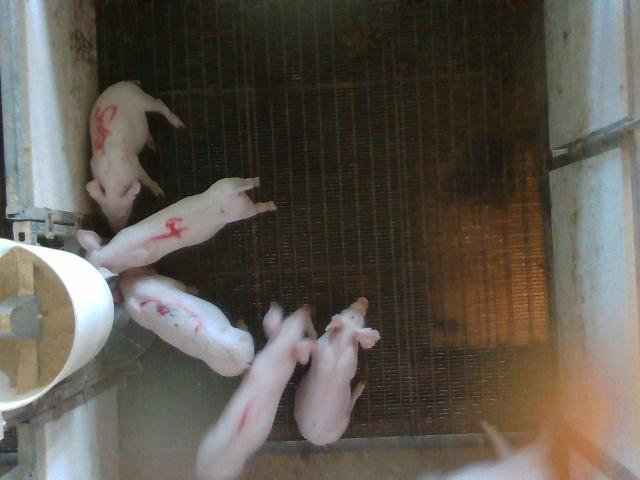pig-1: (196, 304, 316, 479)
pig-3: (120, 269, 254, 376)
pig-4: (78, 178, 275, 278)
pig-5: (86, 81, 184, 232)
